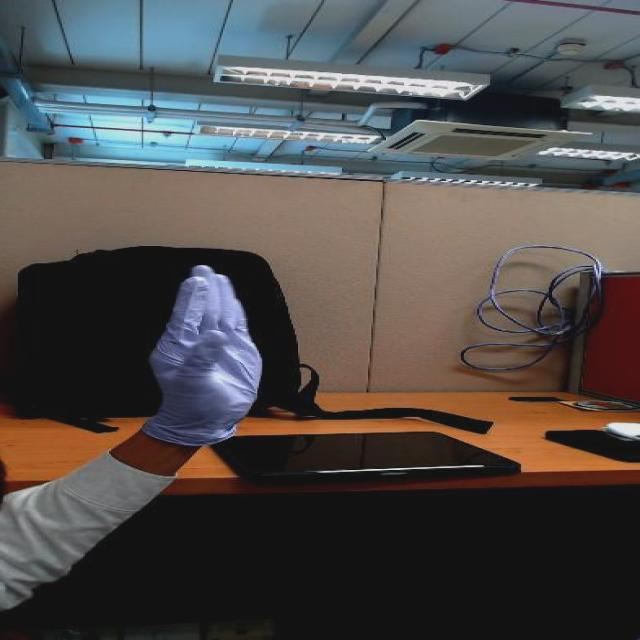glove: (140, 255, 274, 420)
